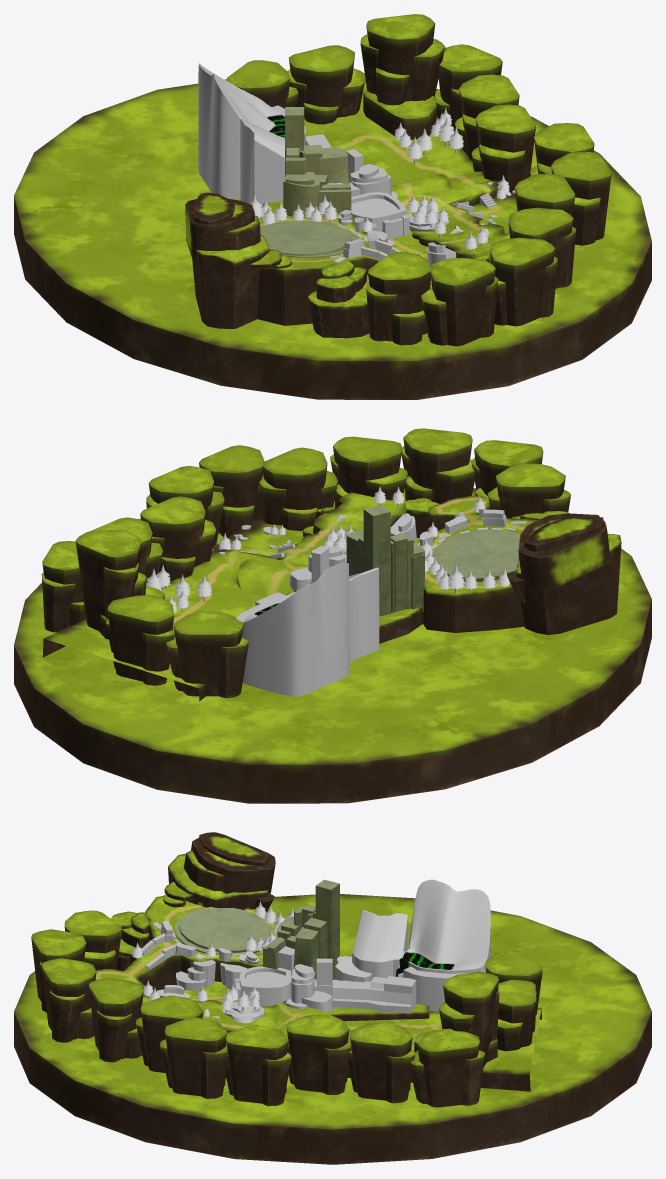
Rendered from mapsss done.fbx.
3 renders of one model, top to bottom at view 1: azimuth 30°, elevation 25°; view 2: azimuth 150°, elevation 25°; view 3: azimuth 270°, elevation 25°, orthographic. The views are drawn at different scales.
Visible parts, largest first — view 1: polySurface315.001, polySurface315.040, maps1.144, polySurface315.011, polySurface315.026, maps1, maps1.158; view 2: polySurface315.001, polySurface315.040, maps1.144, polySurface315.011, maps1, polySurface315.026; view 3: polySurface315.001, polySurface315.040, maps1.144, polySurface315.011, maps1, maps1.105, maps1.158, polySurface315.026, maps1.039, maps1.018, maps1.095.
Boxes of the visible parts, bbox=[...] form: polySurface315.001: bbox=[14, 79, 651, 399]; polySurface315.040: bbox=[226, 14, 611, 346]; maps1.144: bbox=[198, 63, 284, 199]; polySurface315.011: bbox=[283, 107, 351, 217]; polySurface315.026: bbox=[308, 230, 509, 338]; maps1: bbox=[240, 119, 284, 205]; maps1.158: bbox=[351, 192, 406, 238]; polySurface315.001: bbox=[14, 488, 651, 803]; polySurface315.040: bbox=[41, 428, 570, 698]; maps1.144: bbox=[242, 562, 349, 696]; polySurface315.011: bbox=[346, 505, 424, 616]; maps1: bbox=[349, 567, 379, 661]; polySurface315.026: bbox=[303, 498, 569, 537]; polySurface315.001: bbox=[14, 832, 651, 1164]; polySurface315.040: bbox=[31, 910, 542, 1107]; maps1.144: bbox=[398, 879, 490, 977]; polySurface315.011: bbox=[263, 879, 339, 979]; maps1: bbox=[352, 910, 408, 980]; maps1.105: bbox=[332, 976, 416, 1013]; maps1.158: bbox=[235, 966, 290, 1006]; polySurface315.026: bbox=[111, 911, 149, 1017]; maps1.039: bbox=[403, 966, 470, 1011]; maps1.018: bbox=[335, 956, 371, 982]; maps1.095: bbox=[316, 958, 332, 996].
Bounding box in the file's own units: 2868 × 815 × 3276.
